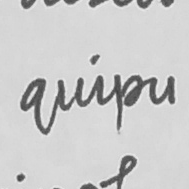i: (88, 52, 108, 108)
p: (110, 71, 145, 137)
q: (17, 74, 49, 137)
u: (55, 75, 87, 111), (147, 71, 177, 108)
